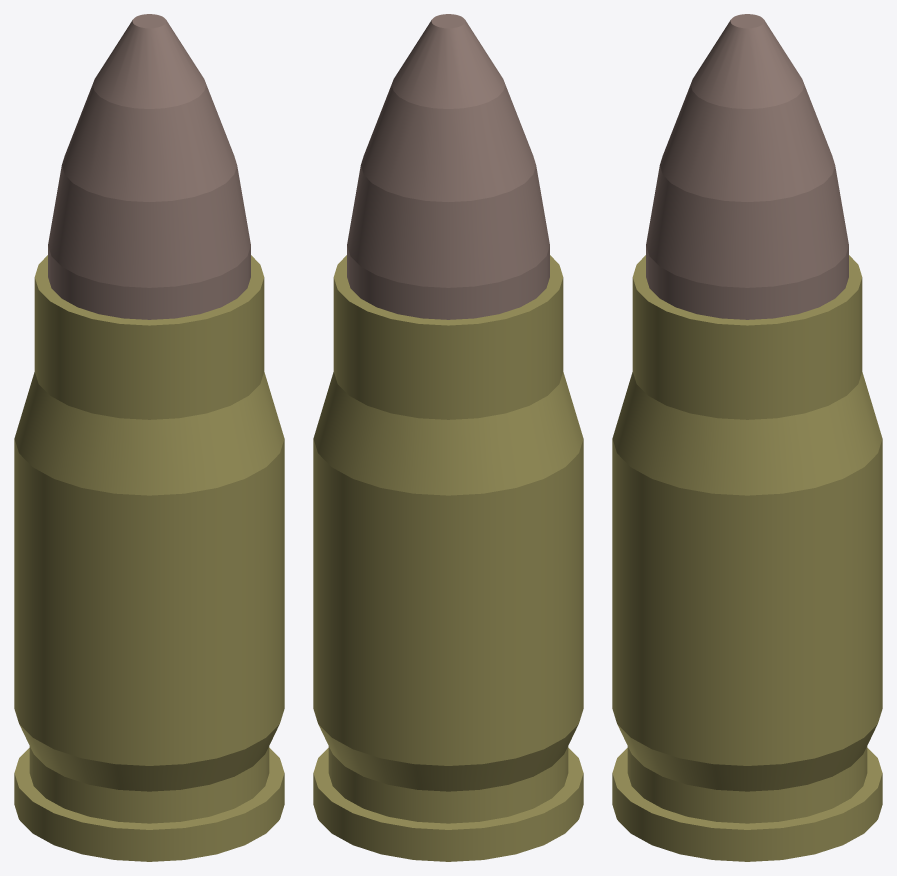
File: ammo_machinegun.glb
The picture shows the model from 3 angles, left to right: view 1: azimuth 30°, elevation 25°; view 2: azimuth 150°, elevation 25°; view 3: azimuth 270°, elevation 25°; orthographic projection.
Visible parts, largest first — view 1: ammo_machinegun; view 2: ammo_machinegun; view 3: ammo_machinegun.
Part boxes in pixels (x1=…): ammo_machinegun: x1=14, y1=14, x2=284, y2=861; ammo_machinegun: x1=313, y1=14, x2=583, y2=861; ammo_machinegun: x1=612, y1=14, x2=882, y2=861.
Size of the model in its own units: 0.00459 by 0.0147 by 0.00459.
